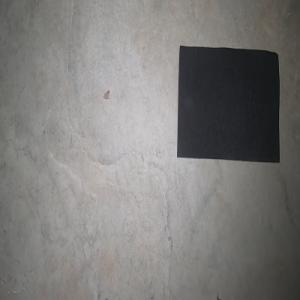PaintChip: (177, 45, 279, 163)
